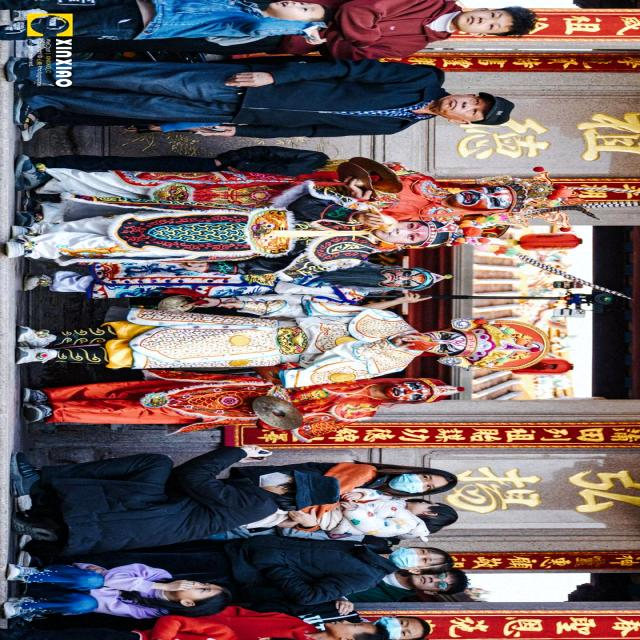Reeves-s Pheasant: (520, 250, 630, 300), (556, 201, 639, 218)
